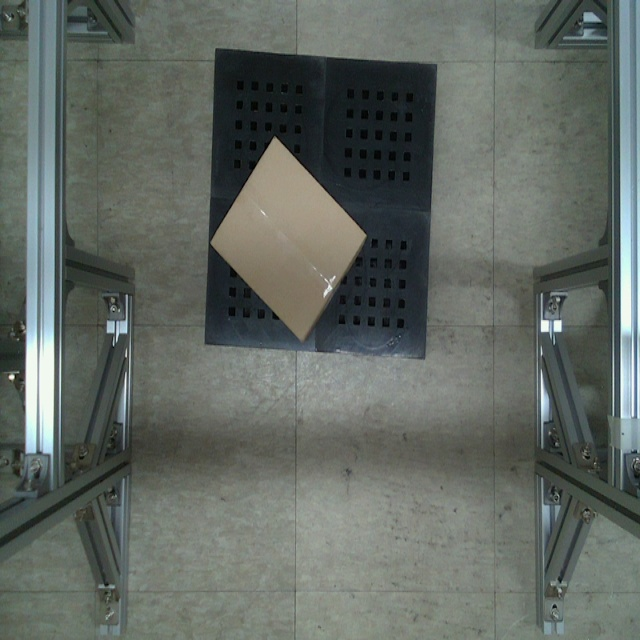box: (211, 132, 365, 347)
pallet: (200, 42, 441, 365)
